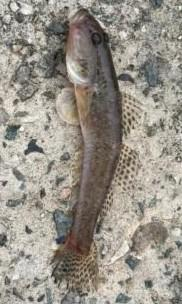fish: (53, 8, 142, 290)
